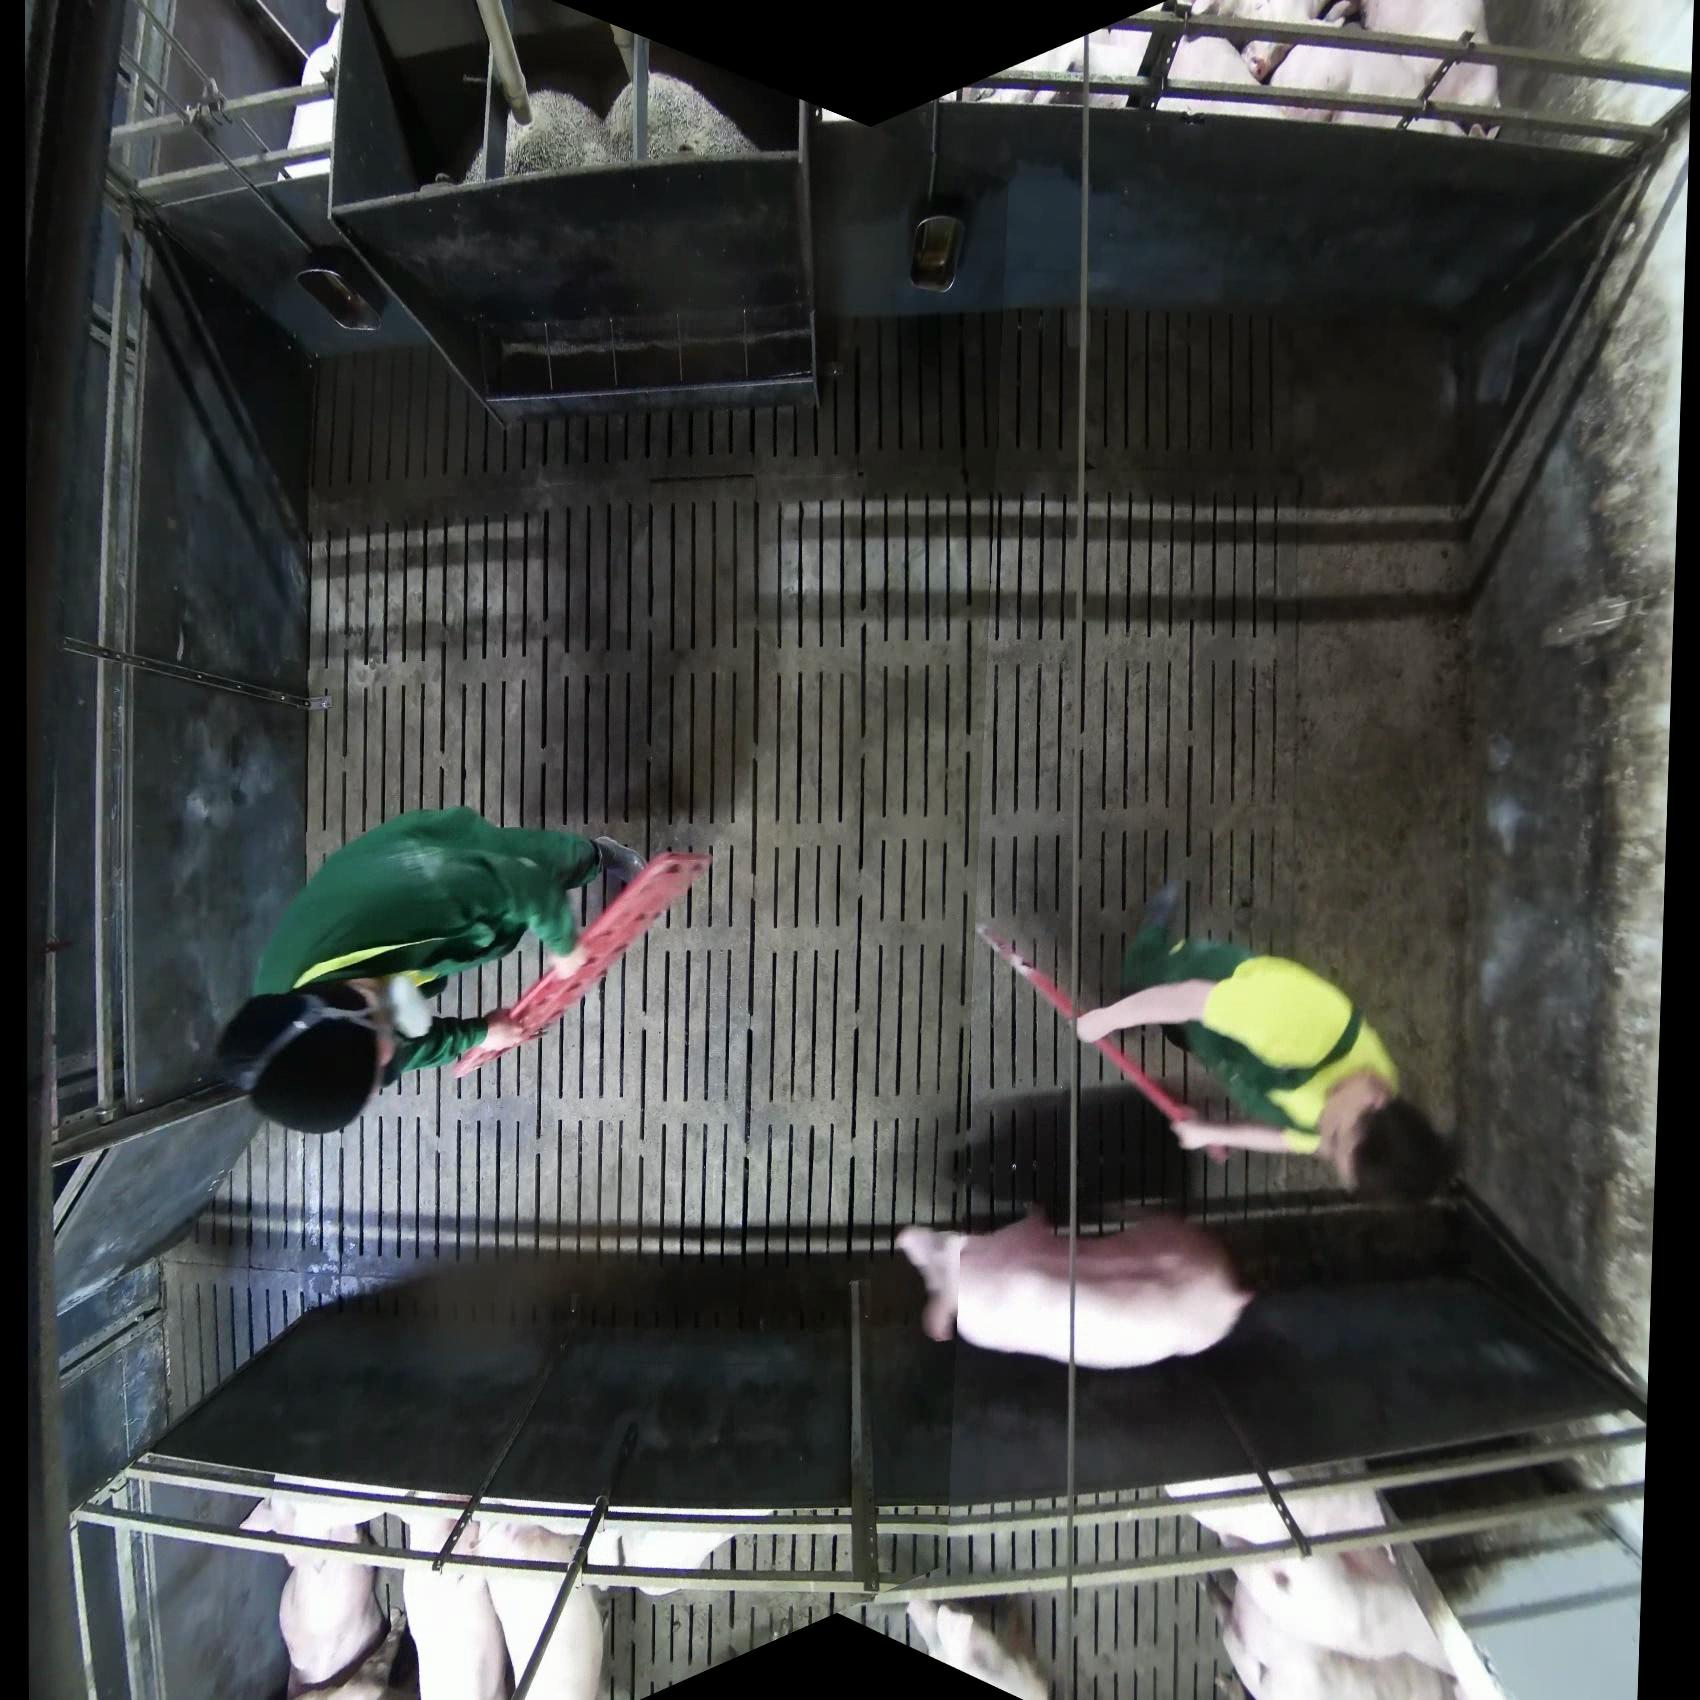pig: (893, 1203, 1257, 1372)
worker: (210, 802, 713, 1138), (1070, 876, 1460, 1207)
